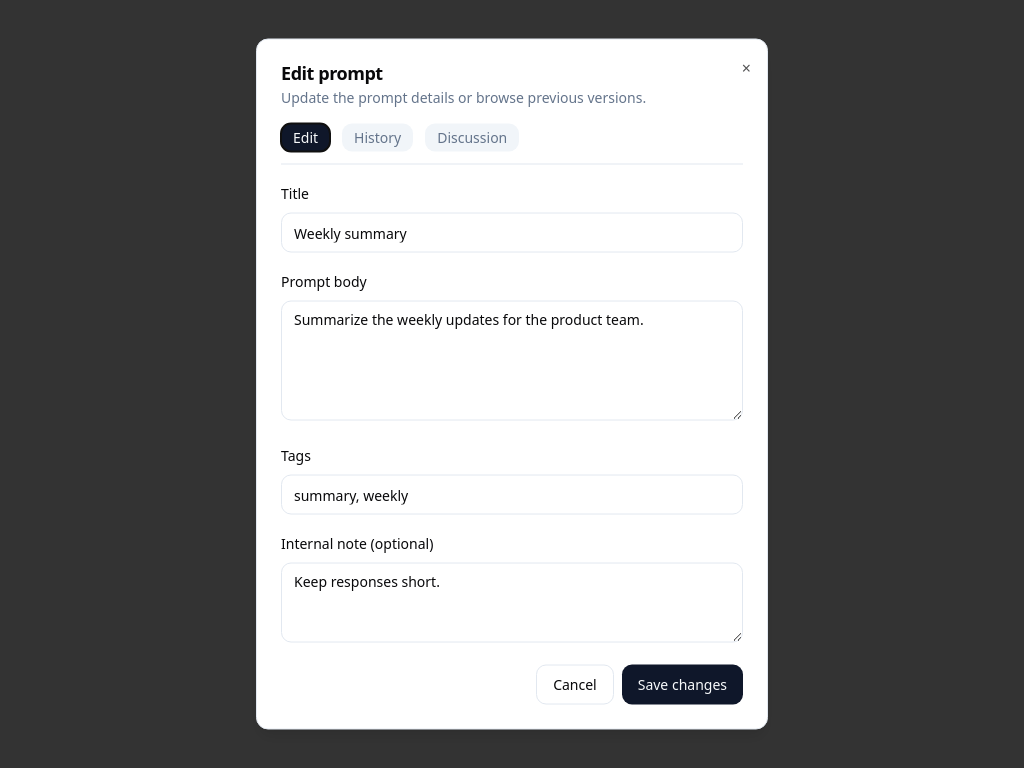
Scenario: PromptEditorDialog › validates required fields before saving
The width and height of the screenshot is (1024, 768).
Clear the field labelled "Title" at (512, 232), box [281,212,743,252]
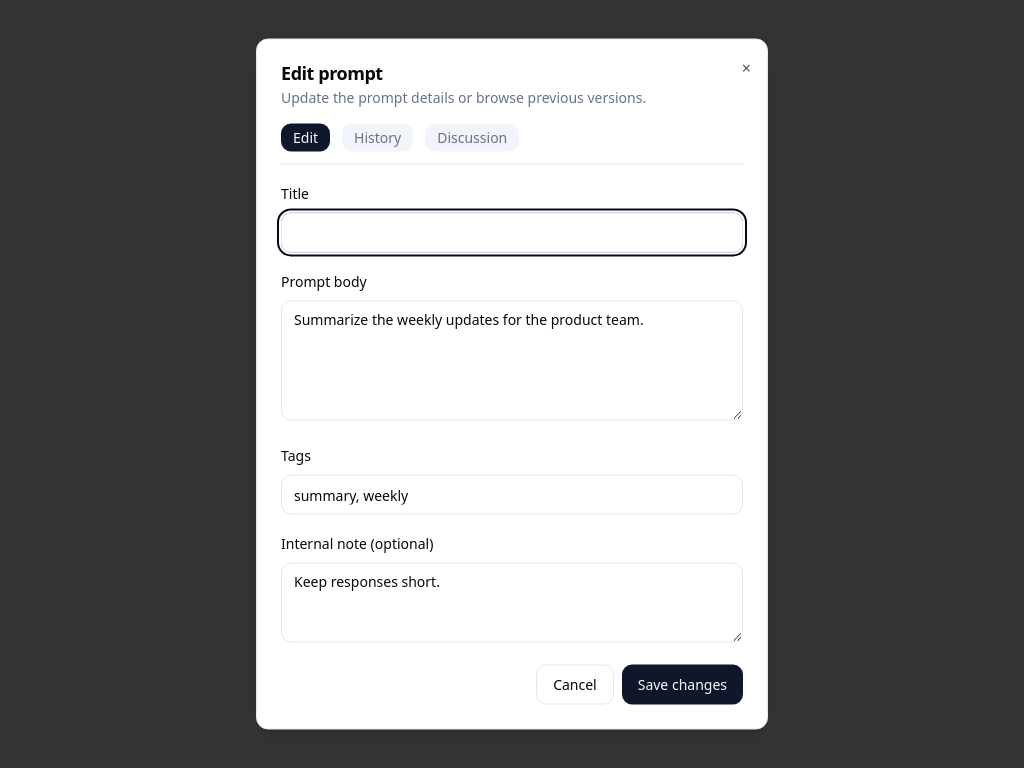
Clear the text box labelled "Prompt body" at (512, 360), box [281,300,743,420]
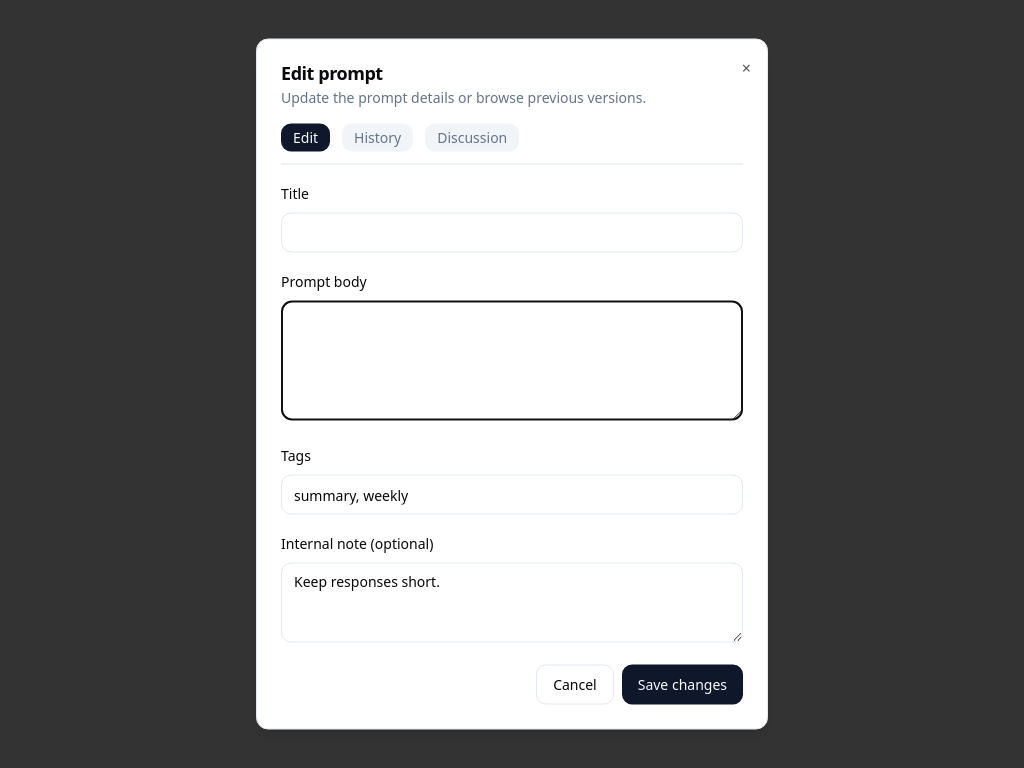
Click the button "Save changes" at (682, 684), box [622,664,743,704]
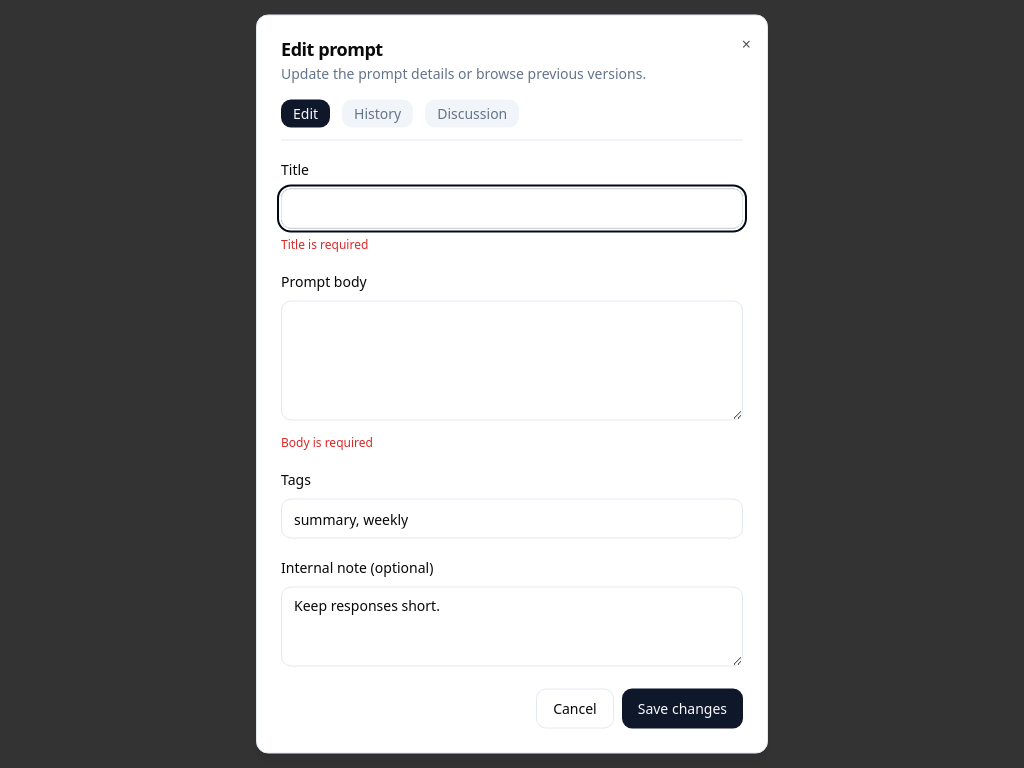
Now the text "Title is required" is shown, box [281,236,368,252]
Now the text "Body is required" is shown, box [281,434,373,450]
